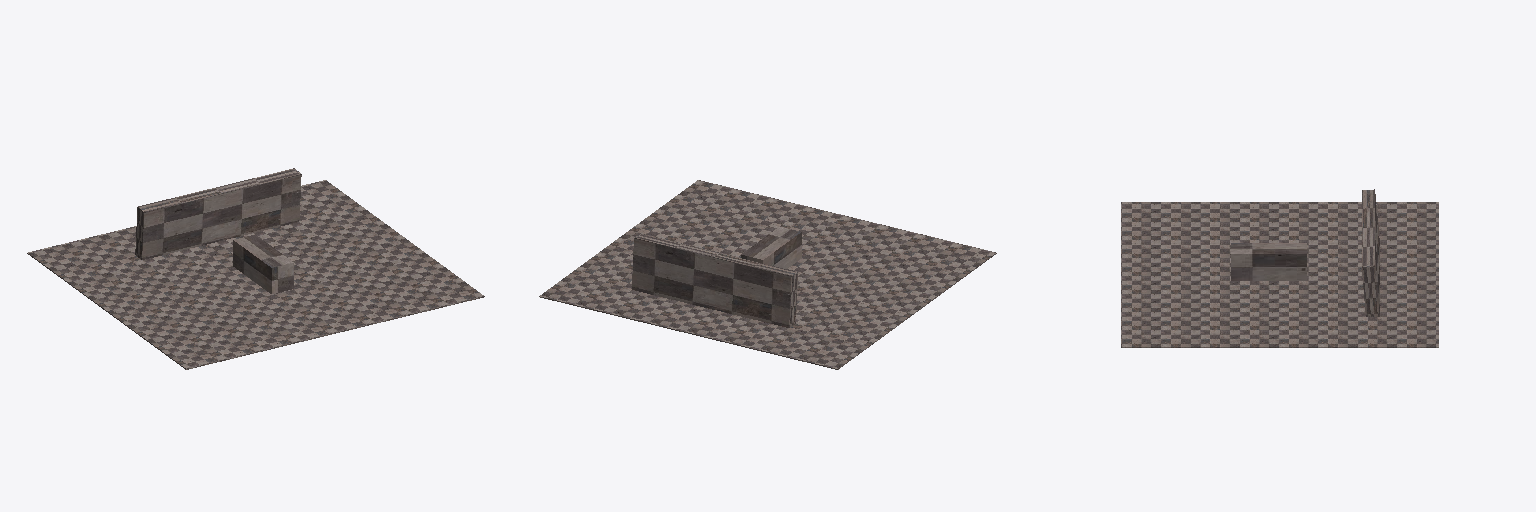
The picture shows the model from 3 angles: view 1: azimuth 30°, elevation 25°; view 2: azimuth 150°, elevation 25°; view 3: azimuth 270°, elevation 25°; orthographic projection.
Parts seen in each view (by area): view 1: Cube.001, Cube.002_Cube.003, Cube.002; view 2: Cube.001, Cube.002_Cube.003, Cube.002; view 3: Cube.001, Cube.002, Cube.002_Cube.003.
Part boxes in pixels (bbox=[...]): Cube.001: bbox=[27, 180, 484, 369]; Cube.002_Cube.003: bbox=[135, 168, 301, 259]; Cube.002: bbox=[233, 234, 293, 293]; Cube.001: bbox=[539, 180, 996, 369]; Cube.002_Cube.003: bbox=[632, 234, 797, 327]; Cube.002: bbox=[741, 227, 801, 268]; Cube.001: bbox=[1121, 202, 1438, 347]; Cube.002: bbox=[1231, 243, 1306, 280]; Cube.002_Cube.003: bbox=[1362, 189, 1379, 316].
Bounding box in the file's own units: 605 × 124 × 559.
Materials: 1 (1 with a texture image).